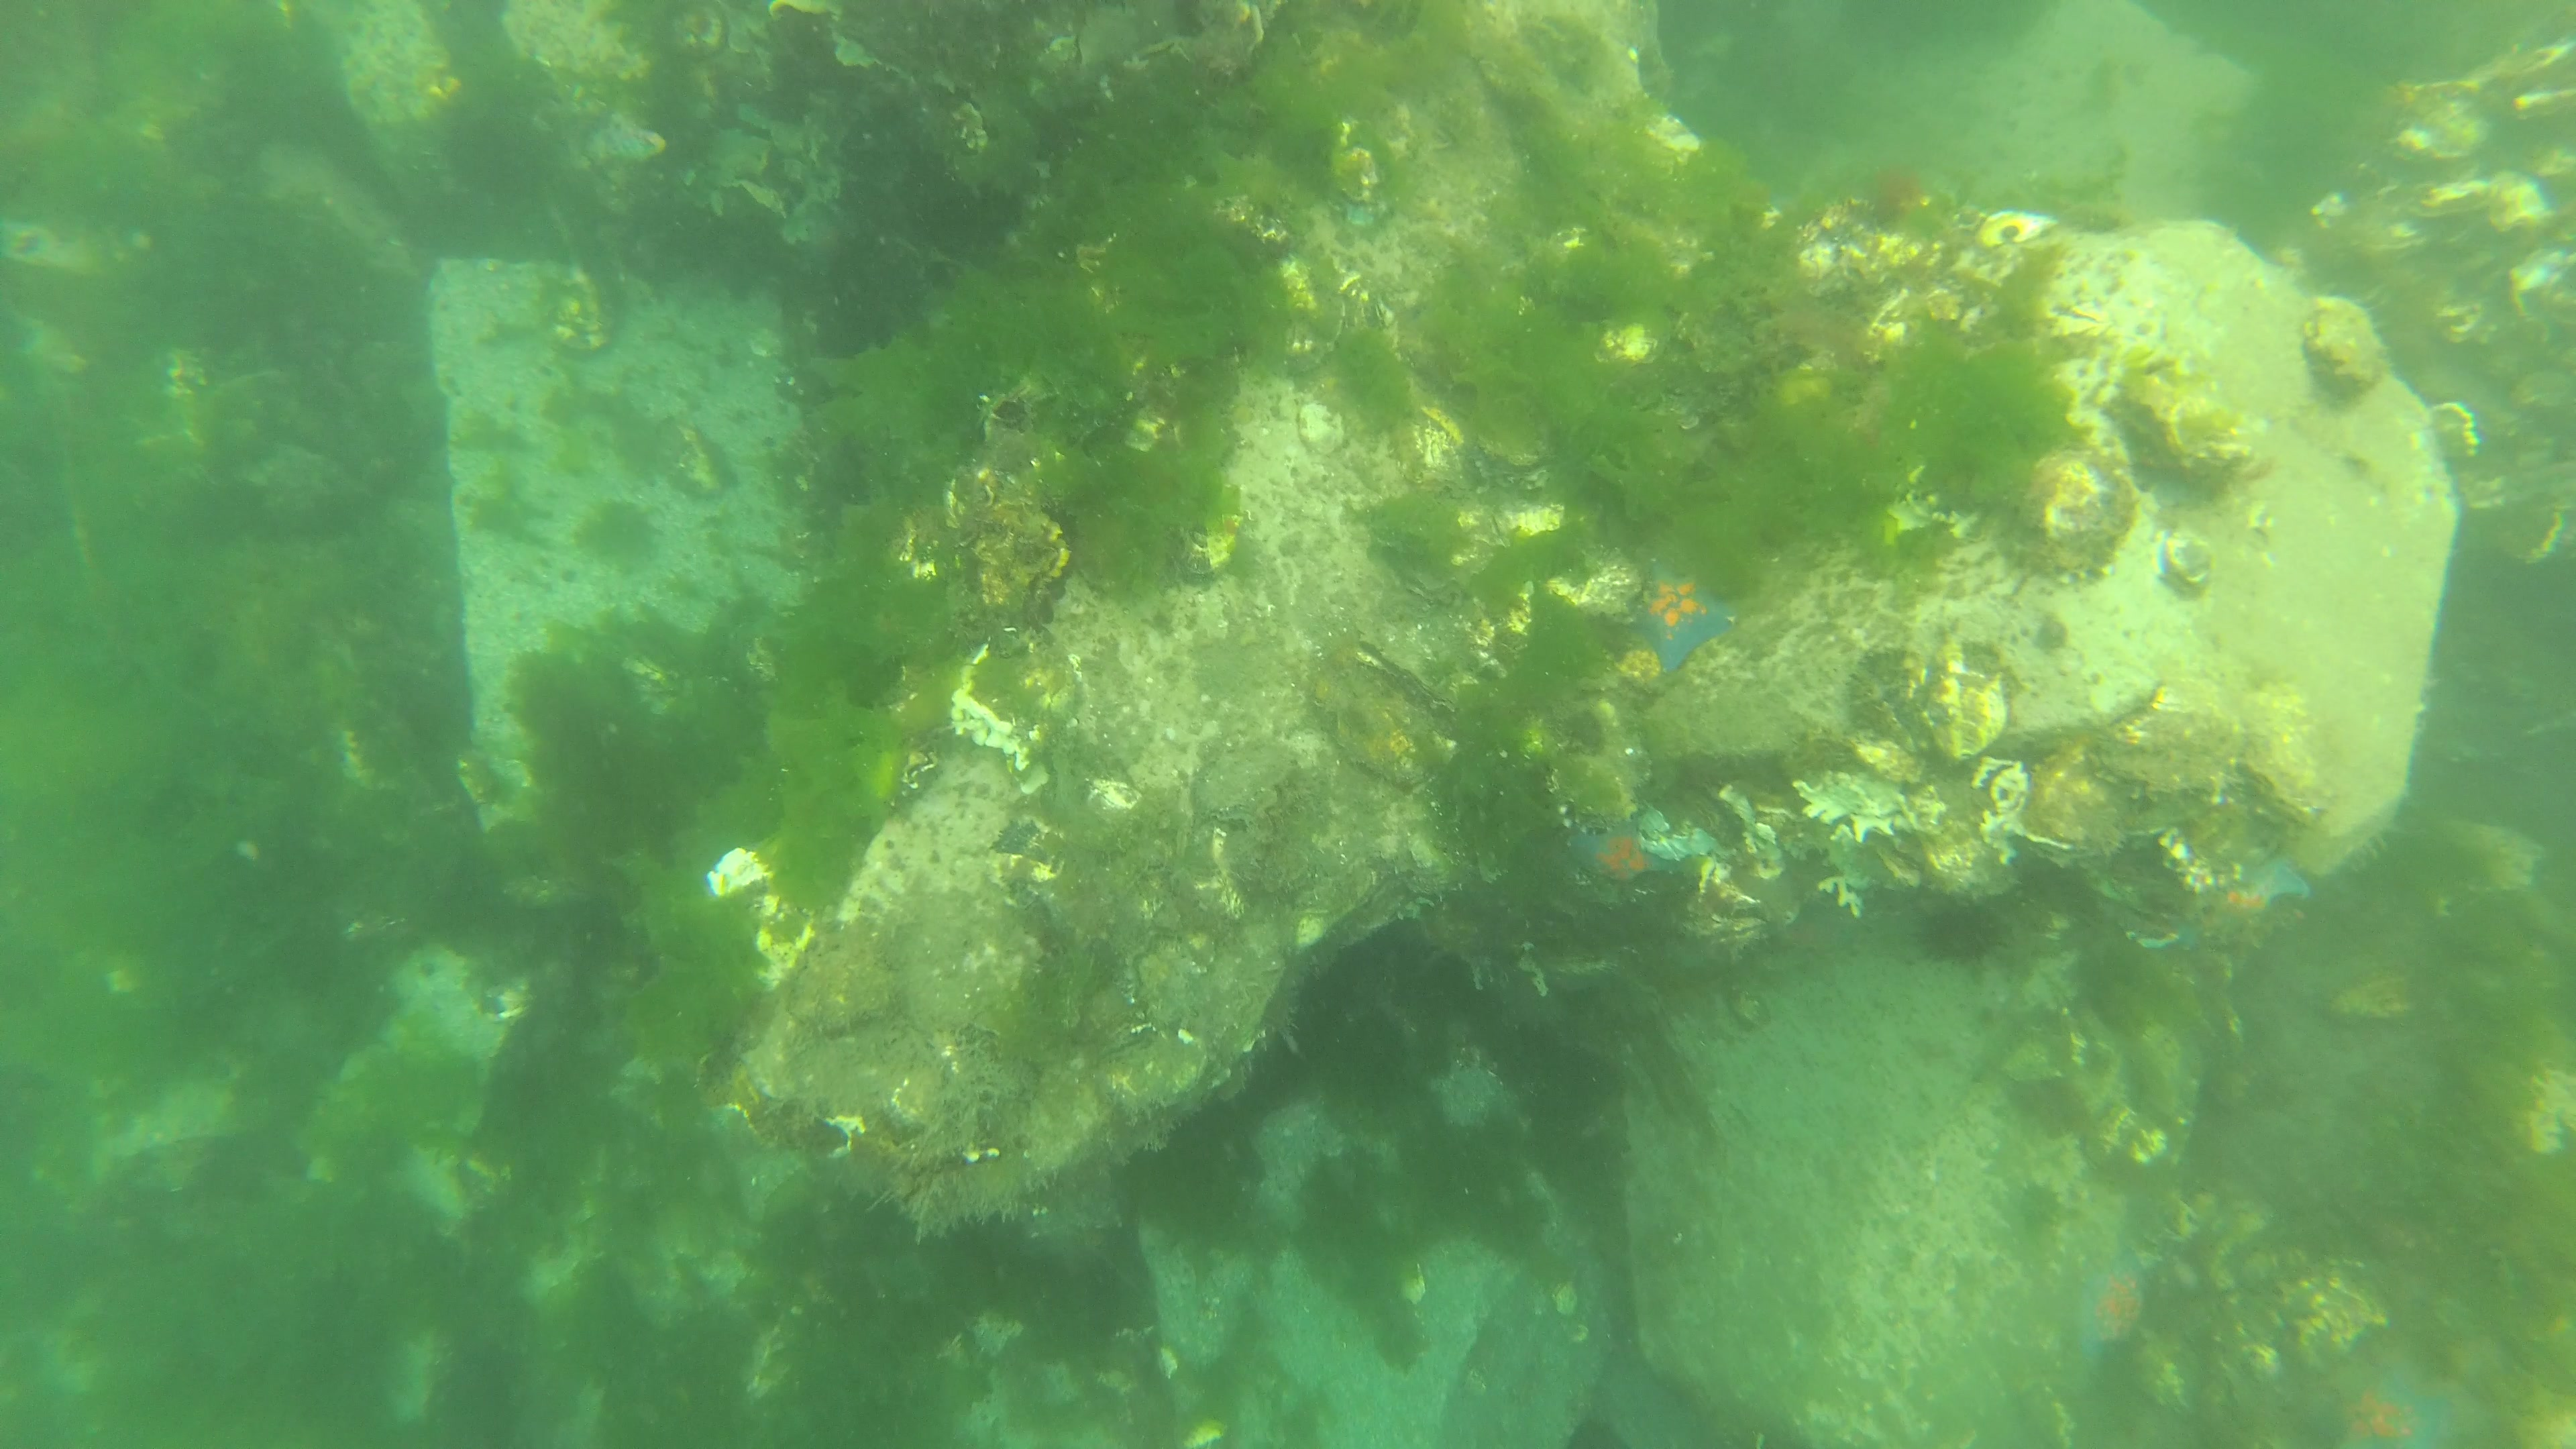echinus: (1905, 893, 2022, 977)
starfish: (1628, 557, 1743, 678), (1557, 809, 1690, 909), (2321, 1362, 2459, 1449), (2066, 1244, 2157, 1366), (2206, 853, 2314, 941)
